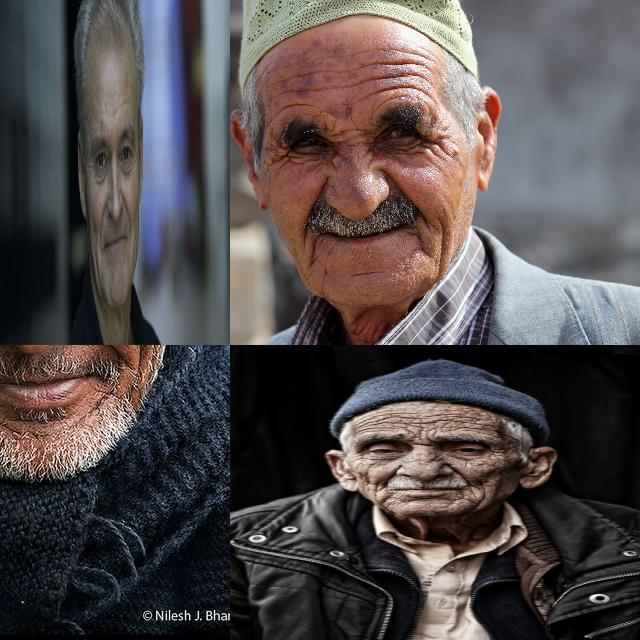bunny_line: (423, 452, 450, 463)
chin: (346, 264, 386, 284), (0, 405, 19, 434), (370, 491, 394, 506), (445, 496, 469, 506)
crows_feet: (418, 132, 444, 168), (268, 144, 292, 168), (487, 446, 510, 459), (86, 159, 94, 186), (132, 149, 138, 172)
forehead: (385, 56, 425, 94), (280, 66, 320, 98), (344, 64, 374, 98), (280, 95, 320, 111), (445, 414, 485, 430), (404, 414, 437, 432), (358, 418, 392, 431), (115, 96, 133, 120), (94, 107, 106, 133)
frown_line: (330, 125, 368, 148), (407, 436, 436, 447)
gummy_smile: (388, 170, 418, 204), (312, 177, 330, 215), (120, 185, 132, 228), (449, 464, 471, 482), (379, 470, 405, 485), (99, 202, 107, 240)
masseter: (130, 345, 148, 384), (434, 222, 450, 260), (90, 237, 98, 290), (471, 488, 495, 504), (131, 239, 137, 282)
sad_smile: (412, 228, 428, 260), (308, 235, 320, 267)
